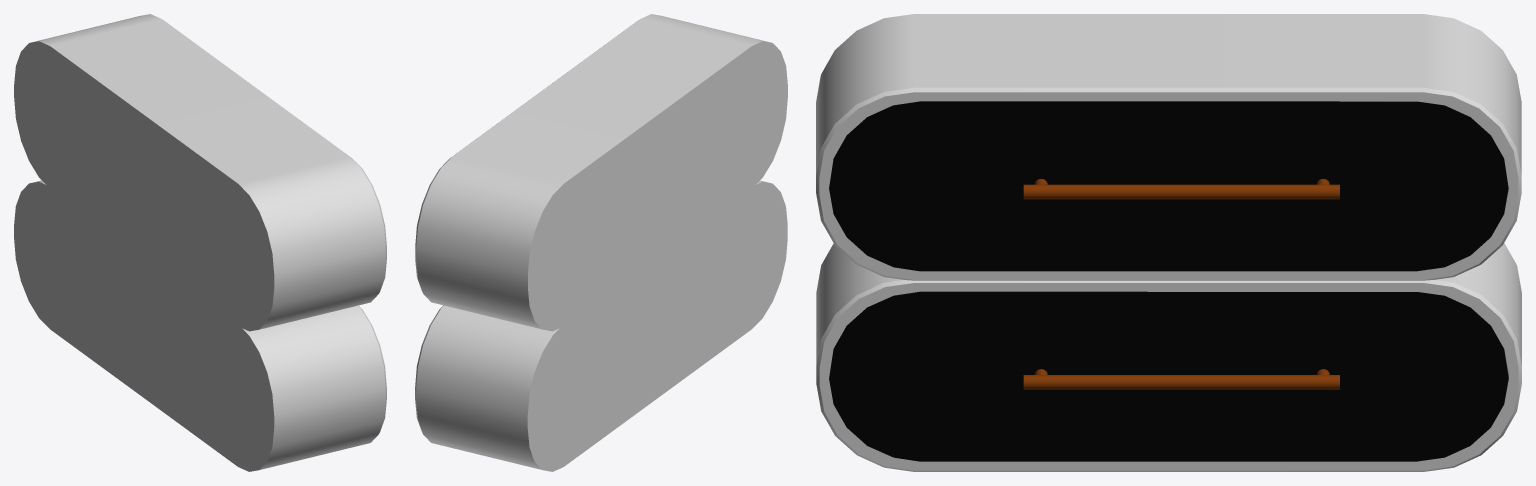
File: Drawer_big_FBX.fbx
3 renders of one model, left to right at view 1: azimuth 30°, elevation 25°; view 2: azimuth 150°, elevation 25°; view 3: azimuth 270°, elevation 25°, orthographic. The views are drawn at different scales.
Parts seen in each view (by area): view 1: drawer_4_states_1_:polySurface4; view 2: drawer_4_states_1_:polySurface4; view 3: drawer_4_states_1_:pCylinder9, drawer_4_states_1_:pCylinder10, drawer_4_states_1_:polySurface4.
Boxes of the visible parts, box(x1,y1,x2,y2) form: drawer_4_states_1_:polySurface4: box(14, 14, 386, 471); drawer_4_states_1_:polySurface4: box(415, 14, 787, 471); drawer_4_states_1_:pCylinder9: box(829, 101, 1508, 271); drawer_4_states_1_:pCylinder10: box(829, 291, 1508, 461); drawer_4_states_1_:polySurface4: box(816, 14, 1521, 471).
Bounding box in the file's own units: 2.48 × 5.17 × 8.6.
